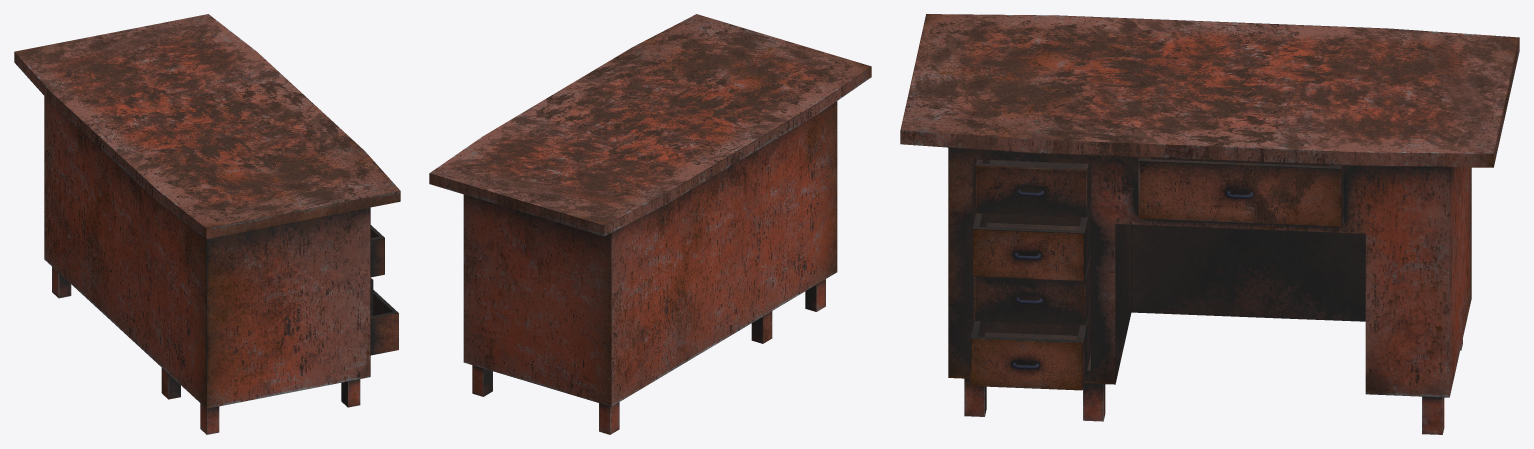
Rendered from Desk.fbx.
3 renders of one model, left to right at view 1: azimuth 30°, elevation 25°; view 2: azimuth 150°, elevation 25°; view 3: azimuth 270°, elevation 25°, orthographic. The views are drawn at different scales.
Parts seen in each view (by area): view 1: Desk, Cuboard.001, Leg.003; view 2: Desk, Leg.003; view 3: Desk, Cuboard.001, Leg.003, Handle.004.
Boxes of the visible parts, bbox=[...] form: Desk: bbox=[14, 14, 400, 408]; Cuboard.001: bbox=[370, 225, 398, 355]; Leg.003: bbox=[52, 267, 360, 434]; Desk: bbox=[429, 14, 871, 406]; Leg.003: bbox=[472, 279, 825, 434]; Desk: bbox=[900, 14, 1519, 397]; Cuboard.001: bbox=[970, 157, 1343, 390]; Leg.003: bbox=[964, 339, 1462, 434]; Handle.004: bbox=[1012, 189, 1253, 369].
Size of the model in its own units: 293 by 289 by 549.
